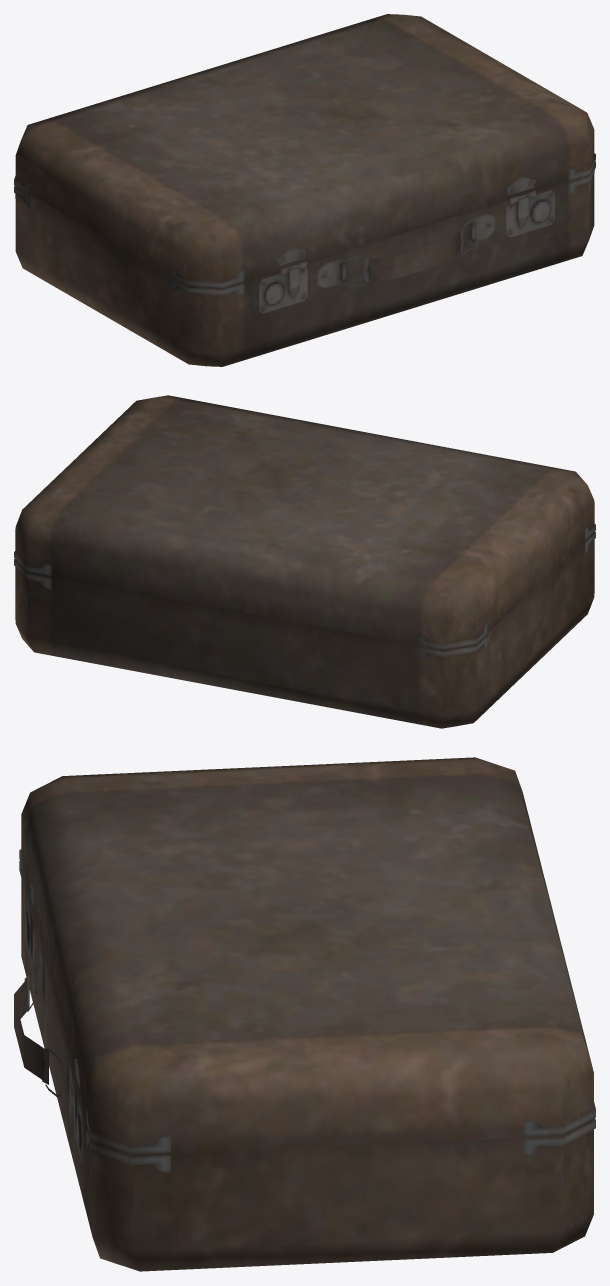
The model's file is ItemSpot.fbx.
3 renders of one model, top to bottom at view 1: azimuth 30°, elevation 25°; view 2: azimuth 150°, elevation 25°; view 3: azimuth 270°, elevation 25°, orthographic. The views are drawn at different scales.
Visible parts, largest first — view 1: ItemBox_Suitcase_01; view 2: ItemBox_Suitcase_01; view 3: ItemBox_Suitcase_01.
Part boxes in pixels (box(x1,y1,x2,y2)): ItemBox_Suitcase_01: box(14, 14, 595, 366); ItemBox_Suitcase_01: box(14, 395, 595, 728); ItemBox_Suitcase_01: box(14, 757, 595, 1271).
Bounding box in the file's own units: 1.05 × 0.3072 × 0.7743.
1 material, 1 textured.
